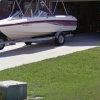Boat: (1, 4, 81, 49)
